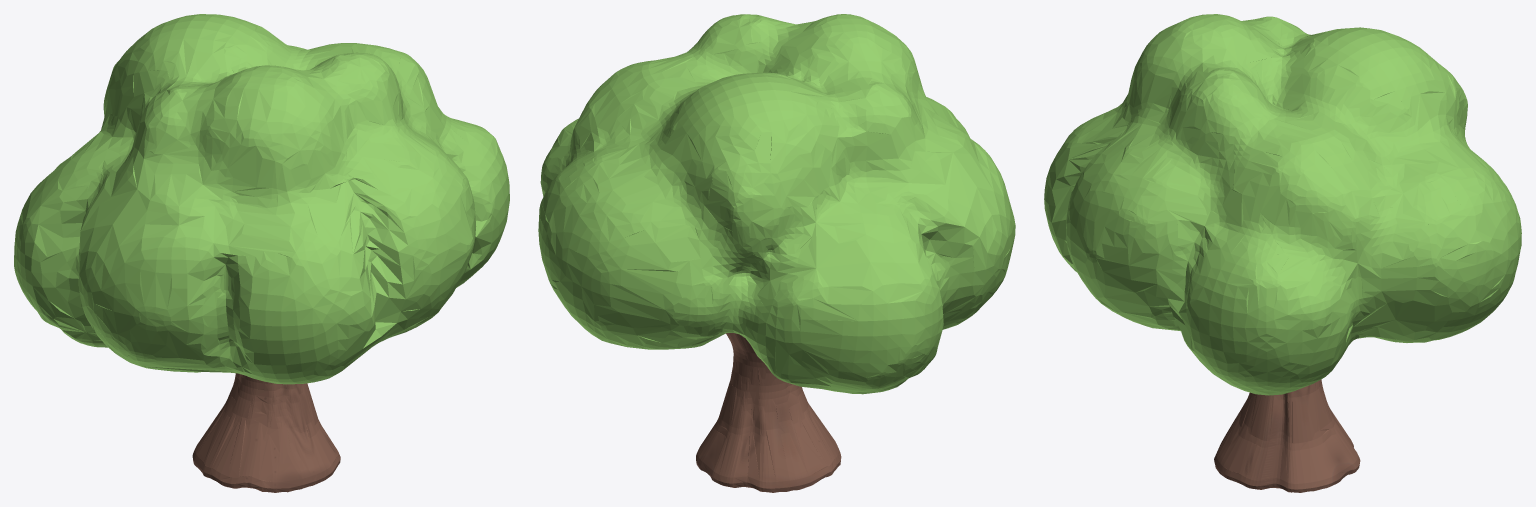
File: worldtree.glb
3 views of the same model, side by side, from view 1: azimuth 30°, elevation 25°; view 2: azimuth 150°, elevation 25°; view 3: azimuth 270°, elevation 25° (orthographic).
Parts seen in each view (by area): view 1: Cylinder; view 2: Cylinder; view 3: Cylinder.
Boxes of the visible parts, bbox=[...] form: Cylinder: bbox=[14, 14, 509, 492]; Cylinder: bbox=[538, 14, 1015, 492]; Cylinder: bbox=[1044, 14, 1521, 492].
Bounding box in the file's own units: 18.87 × 17.95 × 18.18.
2 materials, 1 textured.
